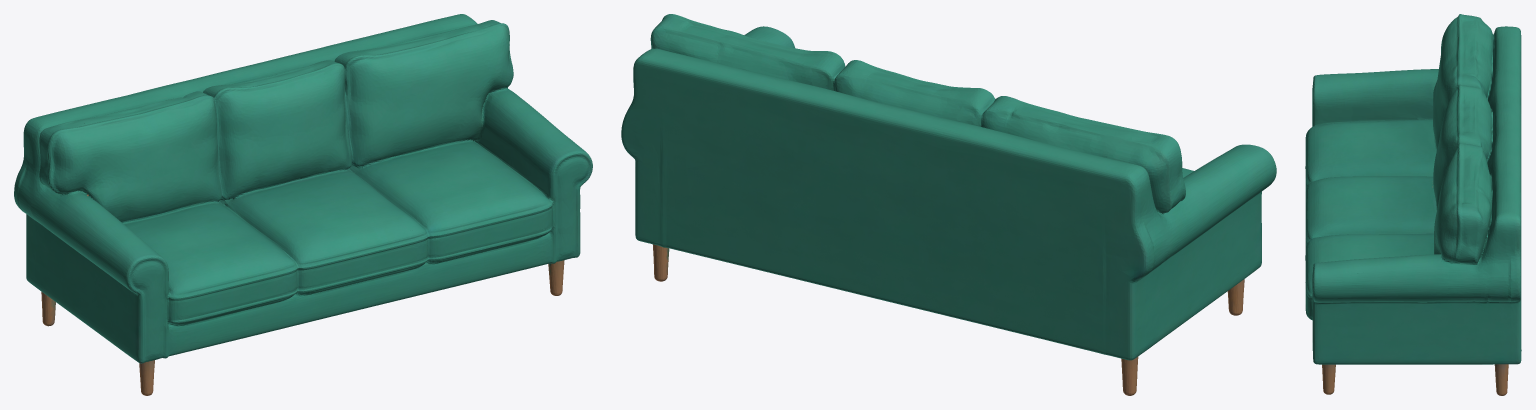
The model's file is cassia-sofa.glb.
The picture shows the model from 3 angles, left to right: view 1: azimuth 30°, elevation 25°; view 2: azimuth 150°, elevation 25°; view 3: azimuth 270°, elevation 25°; orthographic projection. The views are drawn at different scales.
Visible parts, largest first — view 1: textured.obj; view 2: textured.obj; view 3: textured.obj.
Part boxes in pixels (x1,y1,x2,y2): textured.obj: [14, 14, 592, 395]; textured.obj: [621, 14, 1276, 395]; textured.obj: [1305, 14, 1521, 395].
Size of the model in its own units: 1.99 by 0.8802 by 0.8849.
1 material, 1 textured.
